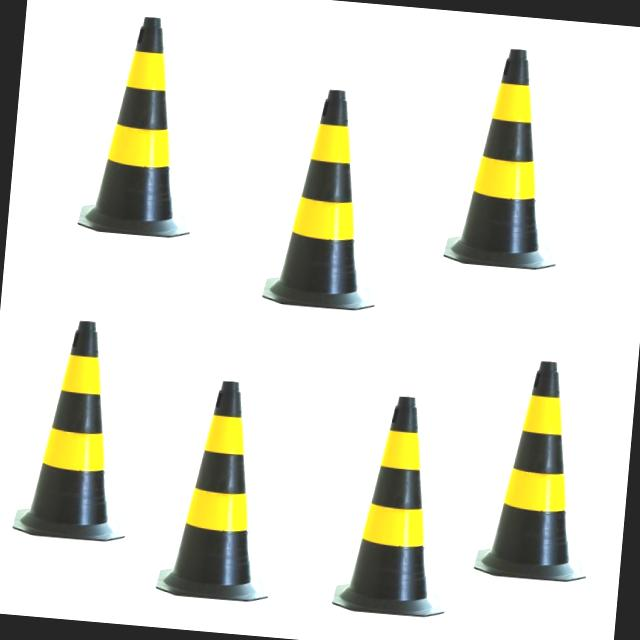cone: (236, 77, 418, 318), (0, 285, 142, 563), (432, 32, 590, 278), (61, 5, 220, 248), (158, 349, 302, 612), (468, 337, 614, 585), (327, 378, 472, 624)
